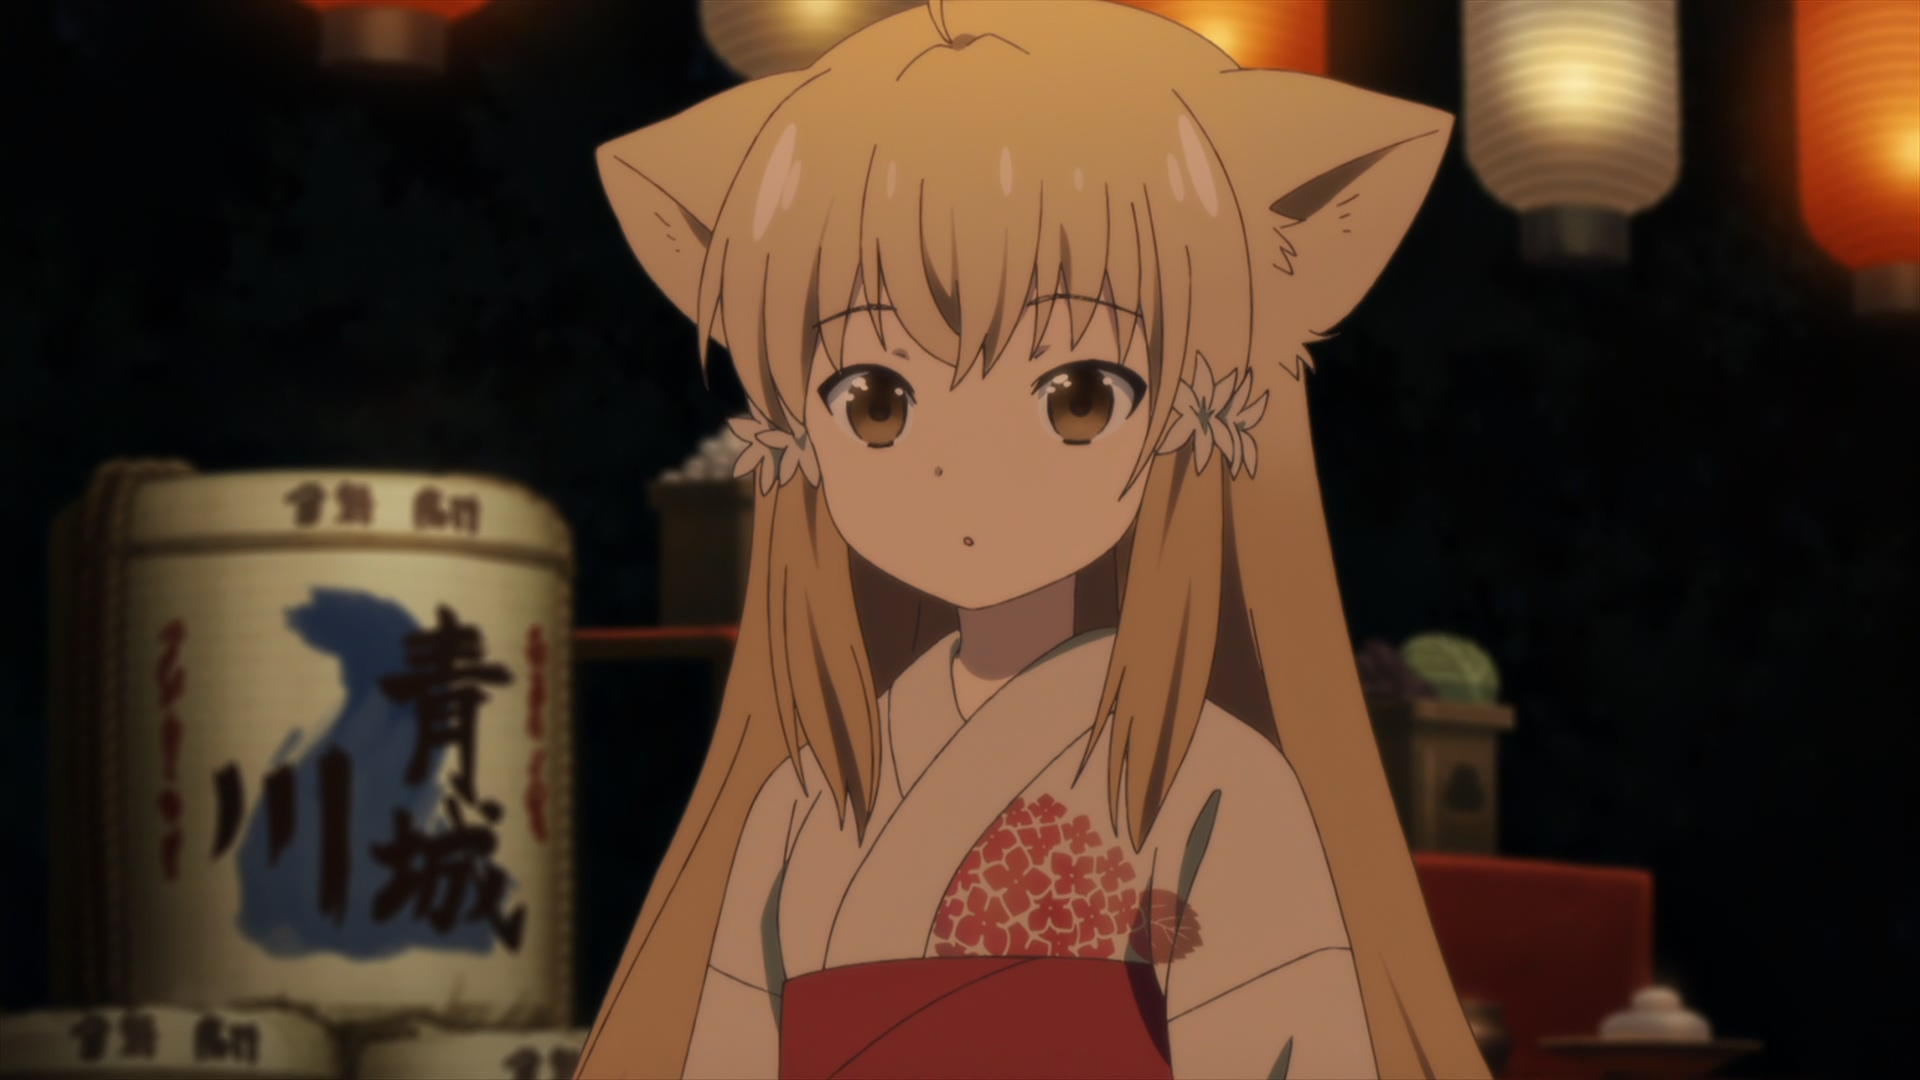柚: (564, 1, 1489, 1080)
